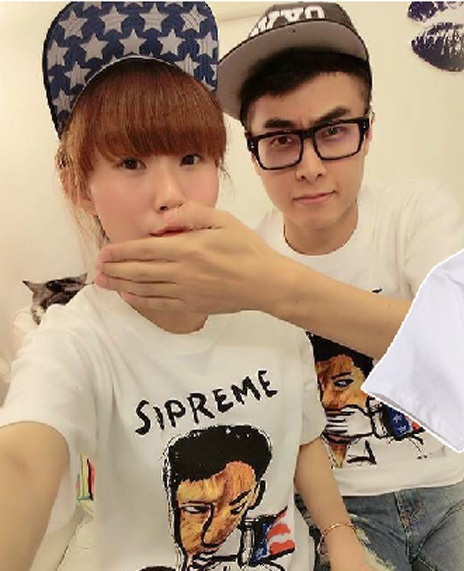face: (91, 99, 218, 277), (251, 72, 364, 230)
